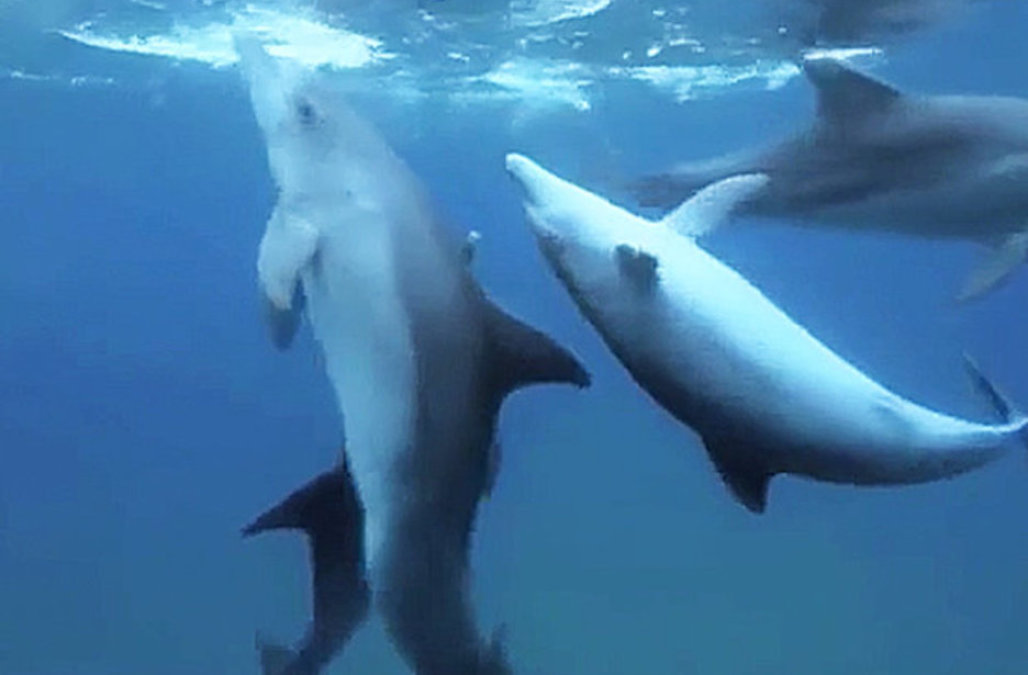dolphin: (197, 27, 601, 675), (460, 129, 1028, 509)
